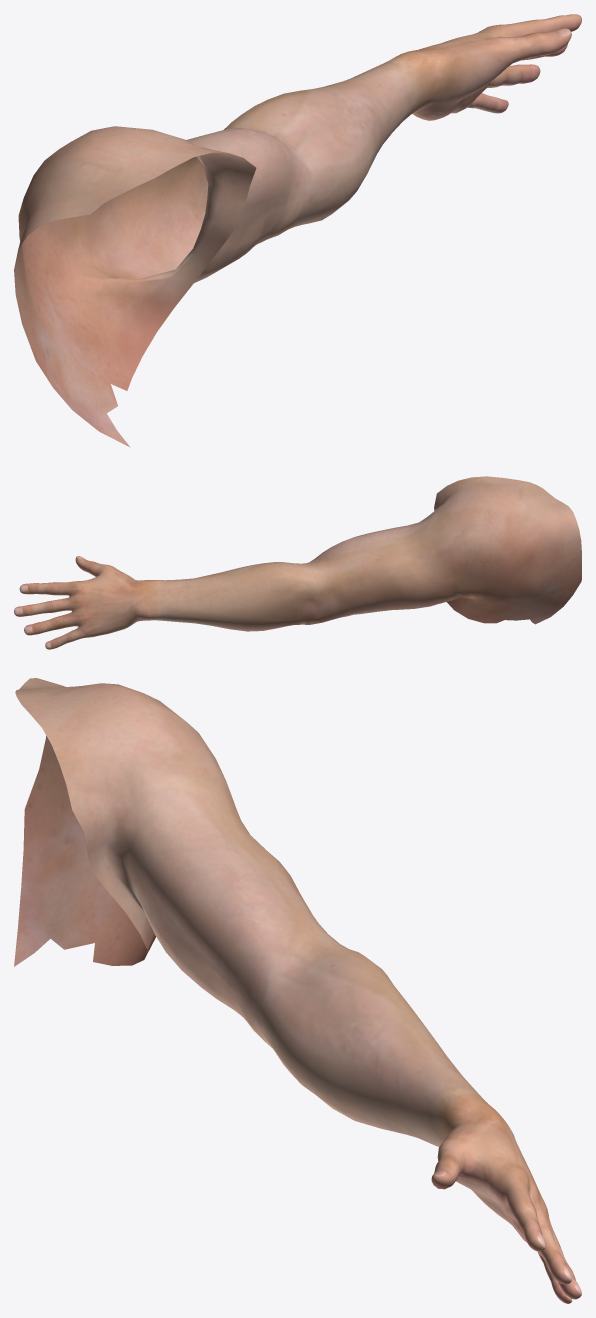
File: Arm.obj
3 renders of one model, top to bottom at view 1: azimuth 30°, elevation 25°; view 2: azimuth 150°, elevation 25°; view 3: azimuth 270°, elevation 25°, orthographic. The views are drawn at different scales.
Visible parts, largest first — view 1: polySurface2 Arms; view 2: polySurface2 Arms; view 3: polySurface2 Arms.
Boxes of the visible parts, left/top/right/bottom form: polySurface2 Arms: left=14, top=14, right=581, bottom=447; polySurface2 Arms: left=14, top=476, right=581, bottom=649; polySurface2 Arms: left=14, top=678, right=581, bottom=1303.
Size of the model in its own units: 70.95 by 23.77 by 41.22.
1 material, 1 textured.
